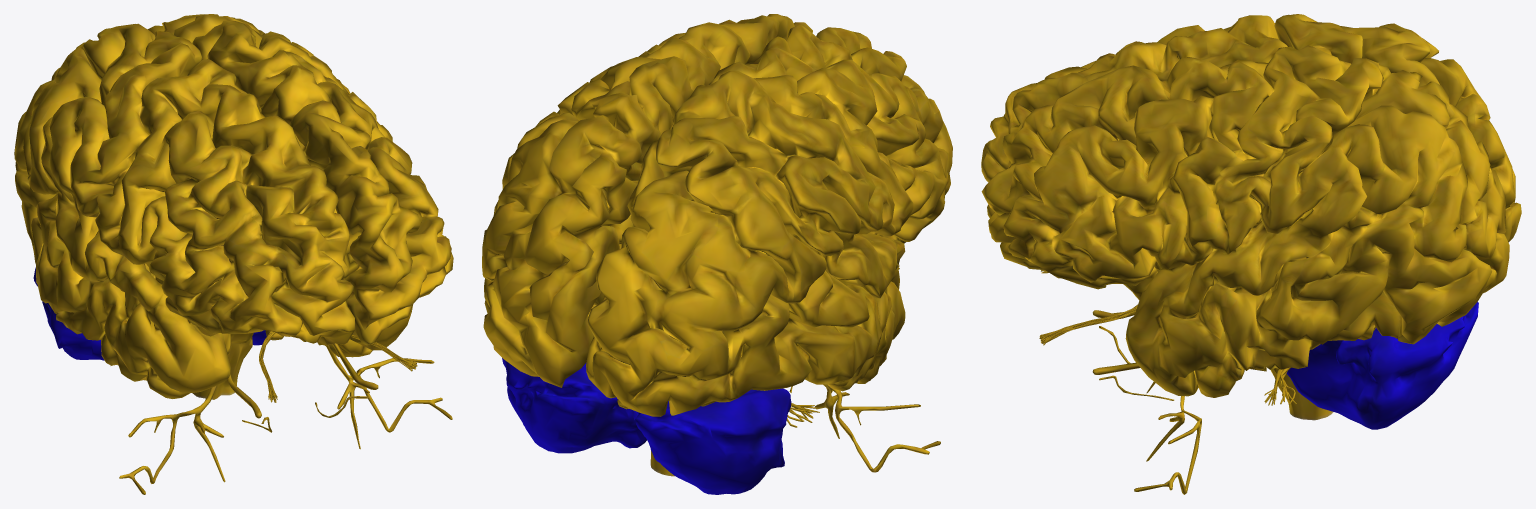
File: cranial-nerves.glb
3 renders of one model, left to right at view 1: azimuth 30°, elevation 25°; view 2: azimuth 150°, elevation 25°; view 3: azimuth 270°, elevation 25°, orthographic. The views are drawn at different scales.
Parts seen in each view (by area): view 1: Right_cerebral_cortex_and_pia_mater, Left_cerebral_cortex_and_pia_mater, Right_mandibular_nerve_CN_V3, Left_mandibular_nerve_CN_V3, Right_cerebellum_and_pia_mater, Medulla; view 2: Right_cerebral_cortex_and_pia_mater, Left_cerebral_cortex_and_pia_mater, Right_cerebellum_and_pia_mater, Left_cerebellum_and_pia_mater, Right_mandibular_nerve_CN_V3; view 3: Left_cerebral_cortex_and_pia_mater, Right_cerebral_cortex_and_pia_mater, Left_cerebellum_and_pia_mater, Left_mandibular_nerve_CN_V3, Medulla, Left_axon_bundle_of_optic_nerve.
Boxes of the visible parts, left/top/right/bottom form: Right_cerebral_cortex_and_pia_mater: left=14, top=23, right=355, bottom=398; Left_cerebral_cortex_and_pia_mater: left=148, top=14, right=453, bottom=357; Right_mandibular_nerve_CN_V3: left=119, top=385, right=225, bottom=494; Left_mandibular_nerve_CN_V3: left=326, top=345, right=452, bottom=449; Right_cerebellum_and_pia_mater: left=33, top=267, right=104, bottom=360; Medulla: left=192, top=336, right=252, bottom=399; Right_cerebral_cortex_and_pia_mater: left=586, top=25, right=952, bottom=416; Left_cerebral_cortex_and_pia_mater: left=482, top=14, right=812, bottom=387; Right_cerebellum_and_pia_mater: left=631, top=388, right=791, bottom=494; Left_cerebellum_and_pia_mater: left=502, top=358, right=646, bottom=453; Right_mandibular_nerve_CN_V3: left=815, top=384, right=940, bottom=472; Left_cerebral_cortex_and_pia_mater: left=981, top=45, right=1509, bottom=397; Right_cerebral_cortex_and_pia_mater: left=981, top=14, right=1521, bottom=242; Left_cerebellum_and_pia_mater: left=1286, top=301, right=1478, bottom=429; Left_mandibular_nerve_CN_V3: left=1134, top=396, right=1201, bottom=494; Medulla: left=1270, top=368, right=1333, bottom=420; Left_axon_bundle_of_optic_nerve: left=1039, top=304, right=1137, bottom=345.
Size of the model in its own units: 0.1236 by 0.1387 by 0.1703.
26 materials, 26 textured.
